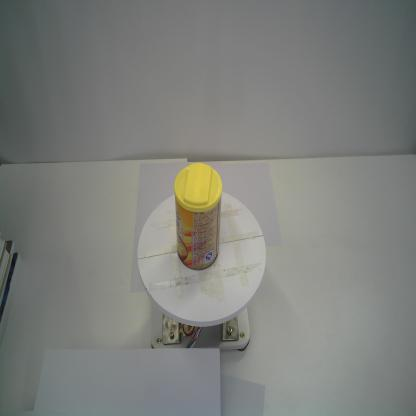Canned Food: (174, 162, 223, 271)
